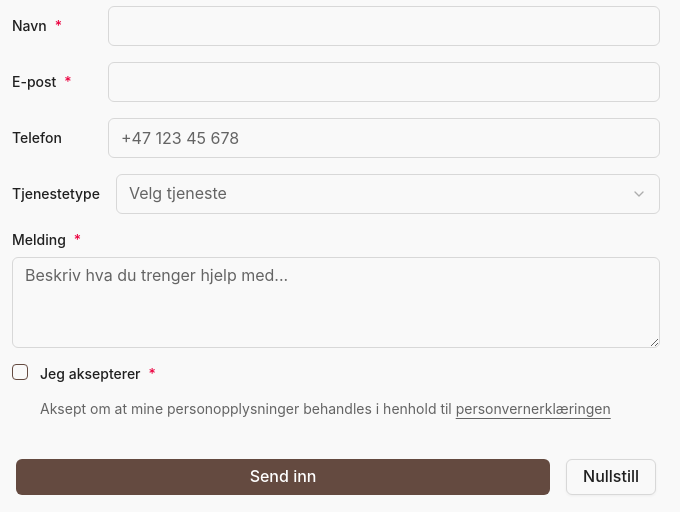
Test case: ContactForm › should have service type dropdown with all available services
# Click to open dropdown
Click the dropdown. click: click(178, 193)
box: [116, 174, 660, 214]
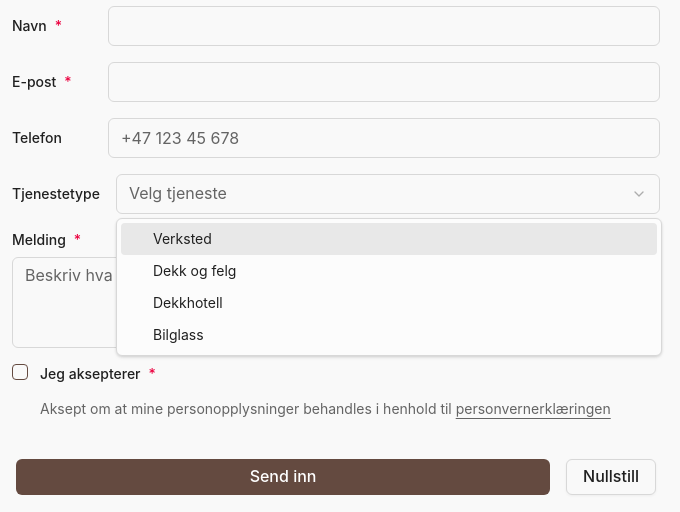
expect the option "Verksted" is shown: met, box [121, 223, 657, 255]
expect the option "Dekk og felg" is shown: met, box [153, 262, 236, 279]
expect the option "Dekkhotell" is shown: met, box [153, 294, 223, 311]
